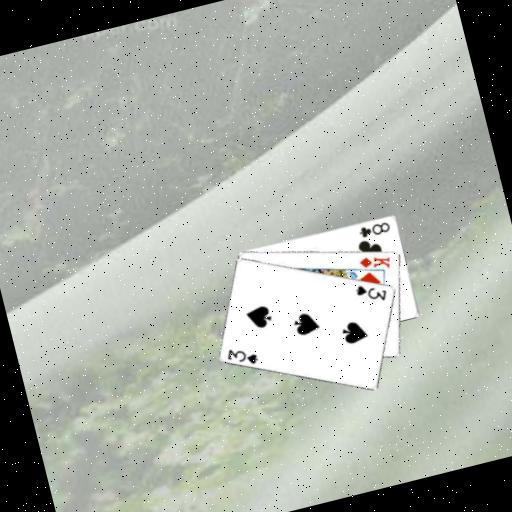3S: (352, 276, 391, 308), (222, 340, 261, 372)
8C: (355, 217, 393, 241)
KD: (355, 248, 394, 276)
